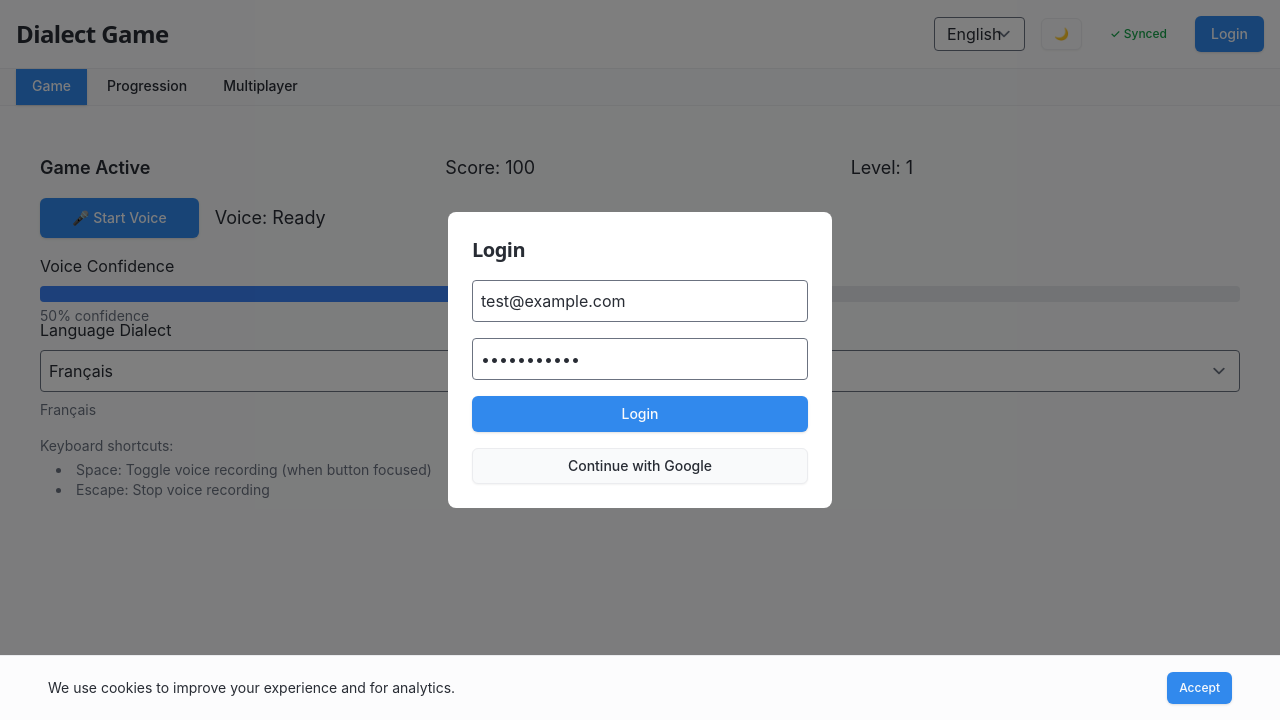
it: App Integration Tests (TDD CYCLE 6 RED Phase) › Phase RED - Tests d'intégration finale qui doivent échouer initialement › should implement complete analytics and tracking
Expected: the element with test id "cookie-consent" is shown, [0, 655, 1279, 719]
# Accepter les cookies
What coordinates should you click on to do the following:
click the button with test id "accept-analytics"
I would click on:
 (1200, 688)
Its box is [1167, 672, 1232, 704].
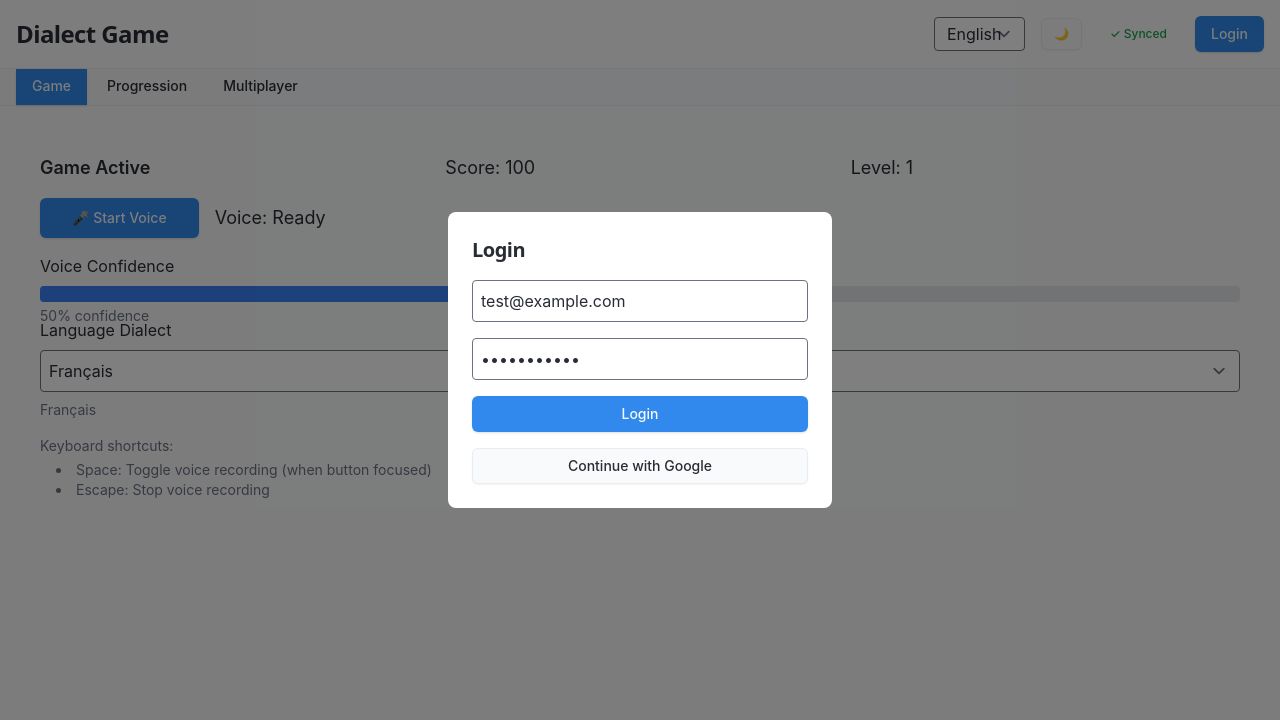
Result: the element with test id "cookie-consent" is gone
